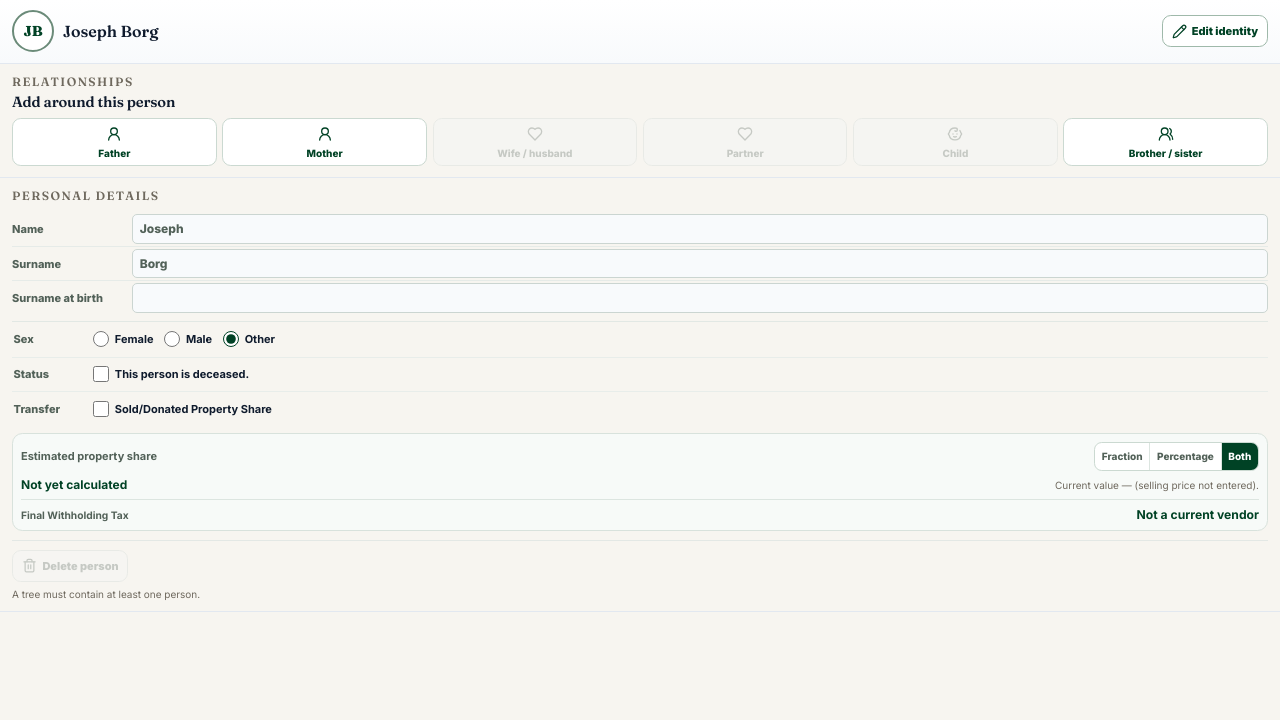
Test case: PersonInspector › resolves an ordinary blank birth surname when sex changes from Other to Female to Male
This screenshot has width=1280, height=720.
Click the radio button labelled "Female" at (101, 339), box [93, 331, 109, 347]
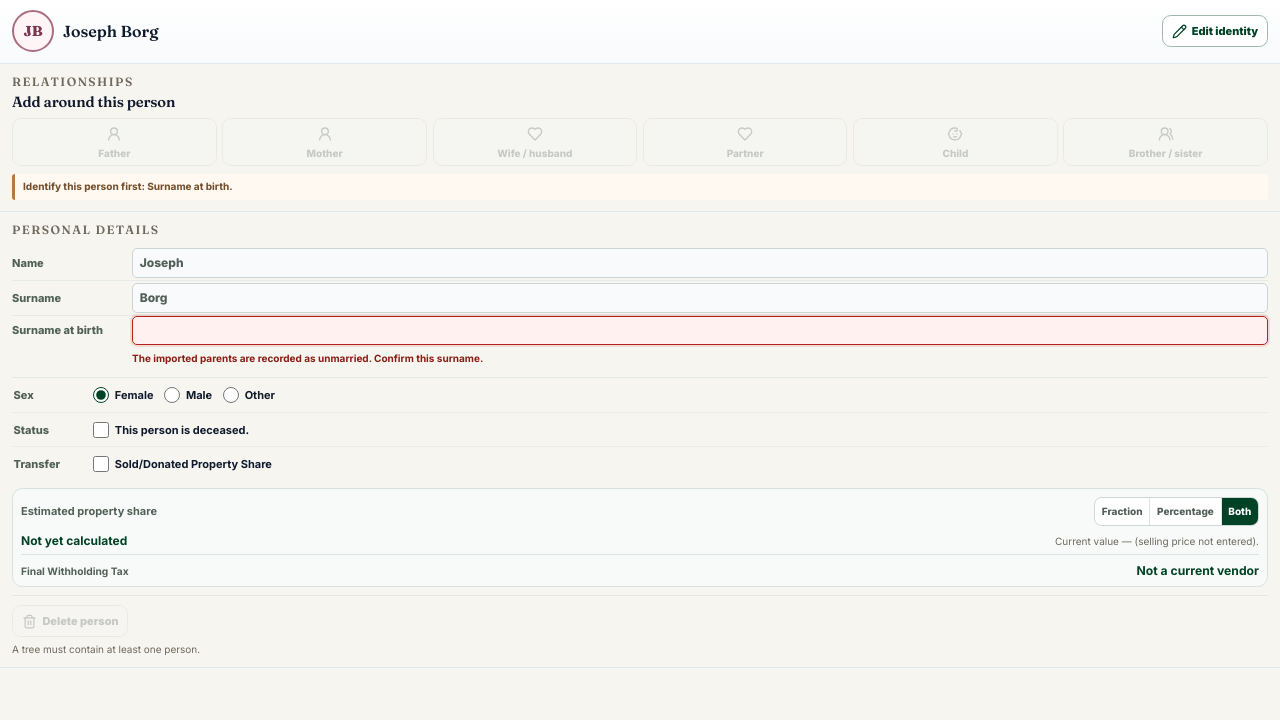
Click the radio button labelled "Male" at (172, 395), box [164, 387, 180, 403]
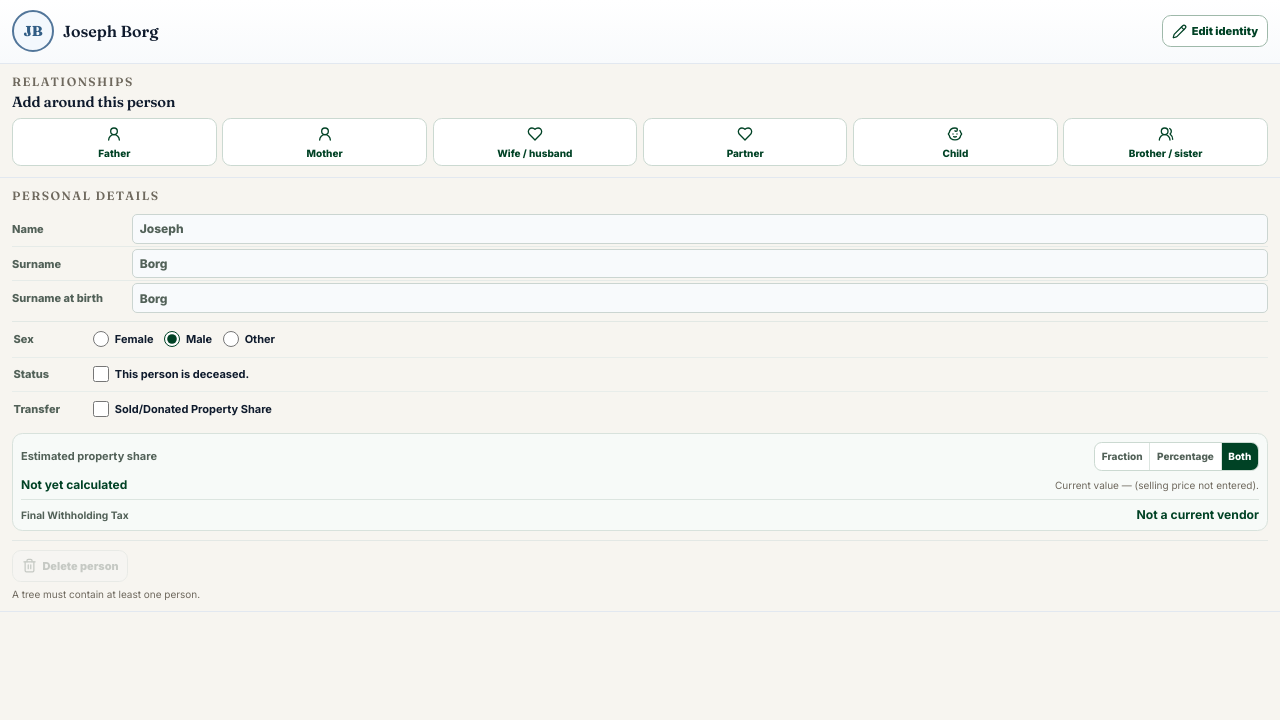
Check: the text "The imported parents are recorded as unmarried" is gone
